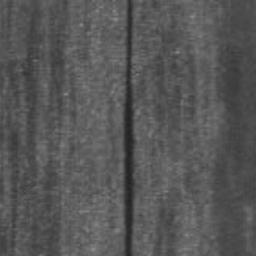Scratches: (124, 0, 133, 256)
